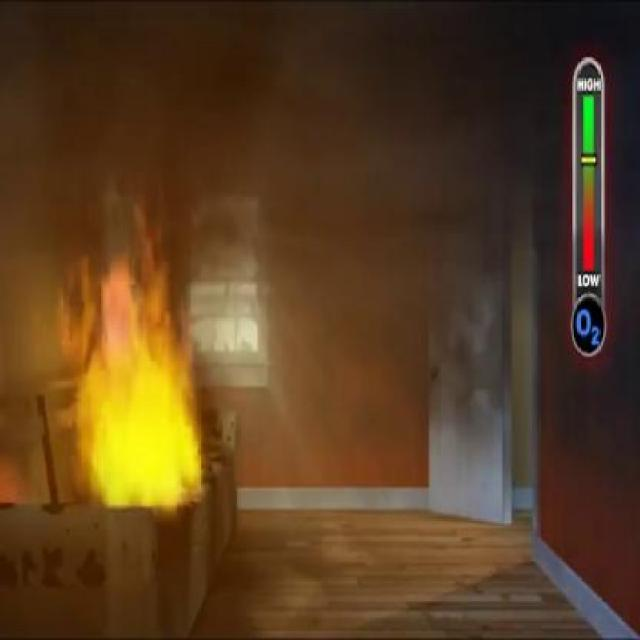fire: (84, 294, 198, 534)
smoke: (14, 2, 558, 270)
